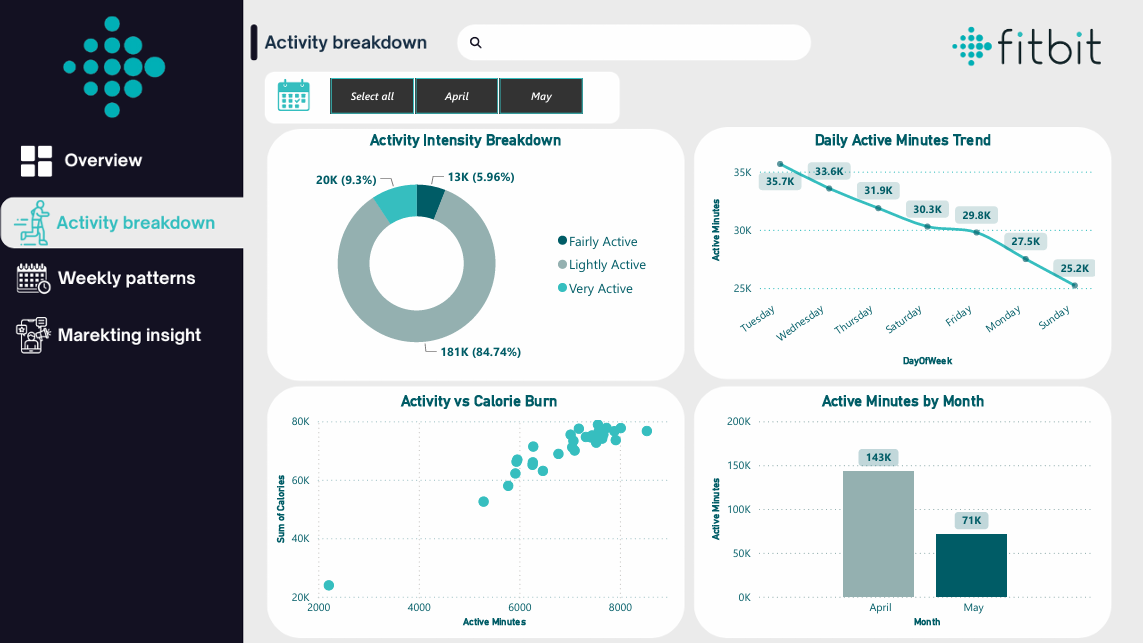

What the dashboard file says about the page in this screenshot:
{"tool":"powerbi","page":{"name":"Activity breakdown","canvas":[1280,720],"ordinal":1},"visuals":[{"type":"donutChart","title":"Activity Intensity Breakdown ","fields":{"Y":["cleaned_dailyActivity.Fairly Active","cleaned_dailyActivity.Lightly Active","cleaned_dailyActivity.Very Active"]},"box":[303.8,146.3,434.2,278.4],"z":0},{"type":"lineChart","title":"Daily Active Minutes Trend","fields":{"Category":["cleaned_dailyActivity.DayOfWeek"],"Y":["cleaned_dailyActivity.Active Minutes"]},"box":[790.5,146.3,439,268.8],"z":1000},{"type":"scatterChart","title":"Activity vs Calorie Burn","fields":{"Category":["cleaned_dailyActivity.Date"],"X":["cleaned_dailyActivity.Active Minutes"],"Y":["Sum(cleaned_dailyActivity.Calories)"]},"box":[303.8,439,464.5,268.8],"z":2000},{"type":"columnChart","fields":{"Category":["cleaned_dailyActivity.Month"],"Y":["cleaned_dailyActivity.Active Minutes"]},"box":[790.5,439,439,268.8],"z":3000},{"type":"slicer","fields":{"Values":["cleaned_dailyActivity.Month"]},"box":[344,80,332,54],"z":4000},{"type":"actionButton","box":[0,280,236,60],"z":5000},{"type":"actionButton","box":[0,340,236,64],"z":6000},{"type":"actionButton","box":[0,146,196,62],"z":7000},{"type":"actionButton","box":[0,280,236,60],"z":8000},{"type":"actionButton","box":[10,350,236,64],"z":9000}]}

Visuals, with their boxes on the page's 1280x720 design canvas (x1, y1, x2, y2). These are canvas units, not pixel positions in the 1143x643 screenshot, which may show the page scaled, cropped or inside an application window:
"Activity Intensity Breakdown " donutChart: detection(304, 146, 738, 425)
"Daily Active Minutes Trend" lineChart: detection(790, 146, 1230, 415)
"Activity vs Calorie Burn" scatterChart: detection(304, 439, 768, 708)
columnChart - cleaned_dailyActivity.Month x cleaned_dailyActivity.Active Minutes: detection(790, 439, 1230, 708)
slicer - cleaned_dailyActivity.Month: detection(344, 80, 676, 134)
actionButton: detection(0, 280, 236, 340)
actionButton: detection(0, 340, 236, 404)
actionButton: detection(0, 146, 196, 208)
actionButton: detection(0, 280, 236, 340)
actionButton: detection(10, 350, 246, 414)
